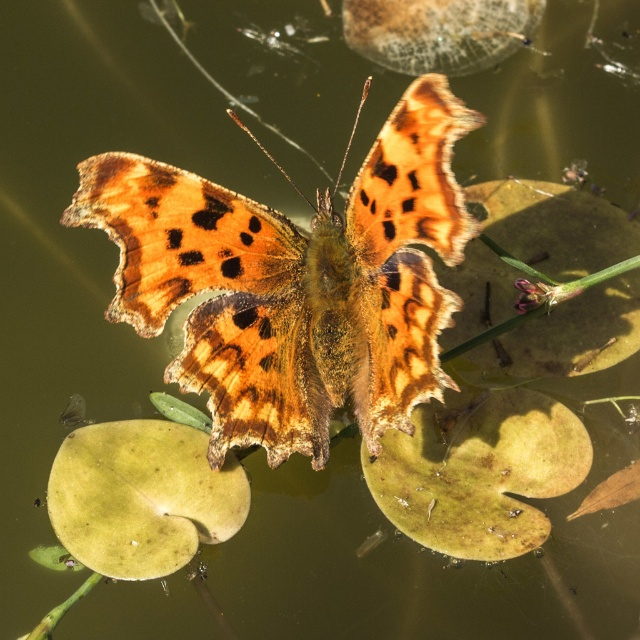Butterfly: (58, 72, 485, 473)
